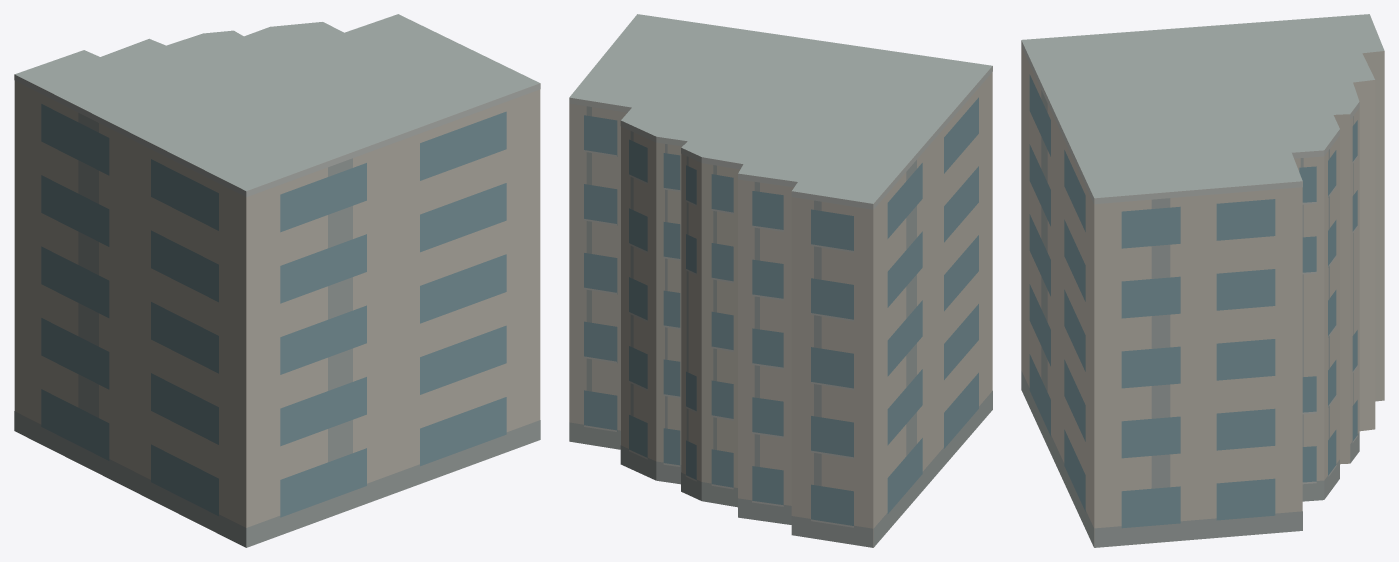
File: survey-upis-32935875.glb
3 renders of one model, left to right at view 1: azimuth 30°, elevation 25°; view 2: azimuth 150°, elevation 25°; view 3: azimuth 270°, elevation 25°, orthographic. The views are drawn at different scales.
Visible parts, largest first — view 1: survey-upis-32935875.tmp; view 2: survey-upis-32935875.tmp; view 3: survey-upis-32935875.tmp.
Part boxes in pixels (x1,y1,x2,y2): survey-upis-32935875.tmp: (14,14,540,547); survey-upis-32935875.tmp: (569,14,992,547); survey-upis-32935875.tmp: (1021,14,1384,547).
Size of the model in its own units: 16.07 by 14.2 by 13.39.
